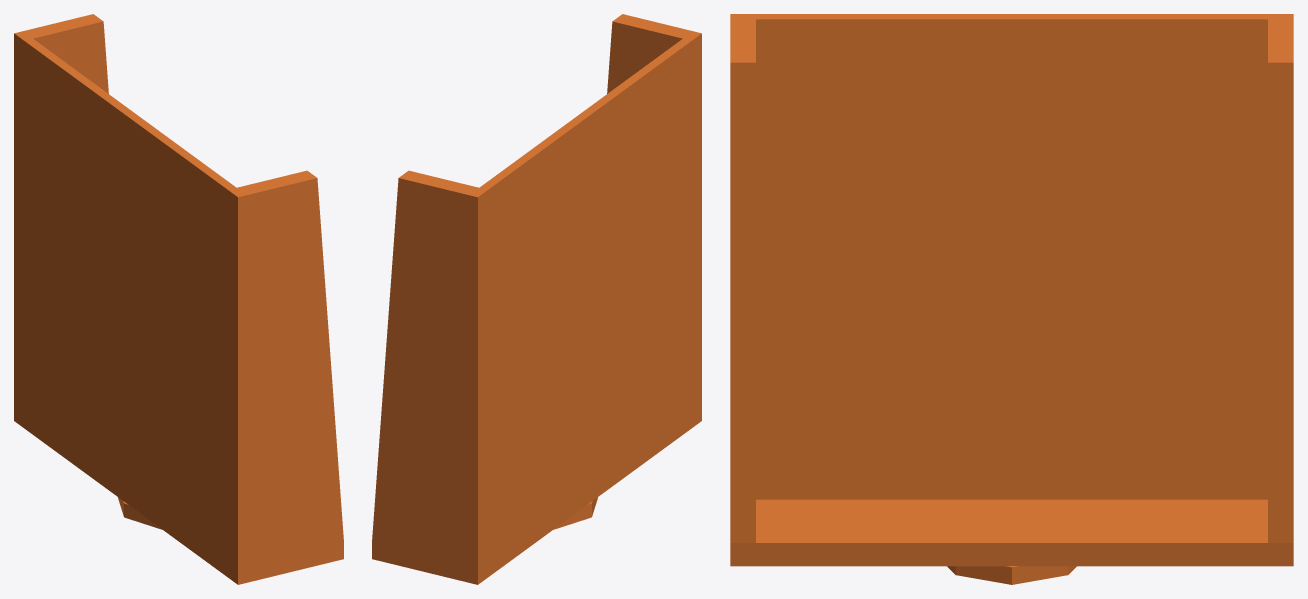
Rendered from spade.dae.
3 renders of one model, left to right at view 1: azimuth 30°, elevation 25°; view 2: azimuth 150°, elevation 25°; view 3: azimuth 270°, elevation 25°, orthographic. The views are drawn at different scales.
Parts seen in each view (by area): view 1: Plane, Plane.002, Plane.001, Plane.003; view 2: Plane, Plane.001, Plane.002, Plane.003; view 3: Plane, Plane.003, Plane.002, Plane.001, Circle.
Boxes of the visible parts, x1,y1,x2,y2 form: Plane: [24, 38, 236, 558]; Plane.002: [228, 170, 343, 566]; Plane.001: [14, 14, 108, 409]; Plane.003: [14, 403, 343, 584]; Plane: [479, 38, 691, 558]; Plane.001: [372, 170, 487, 566]; Plane.002: [607, 14, 701, 409]; Plane.003: [372, 403, 701, 584]; Plane: [756, 14, 1267, 499]; Plane.003: [730, 499, 1293, 566]; Plane.002: [730, 14, 755, 542]; Plane.001: [1268, 14, 1293, 542]; Circle: [947, 566, 1076, 584].
Bounding box in the file's own units: 0.0623 × 0.22 × 0.2176.
